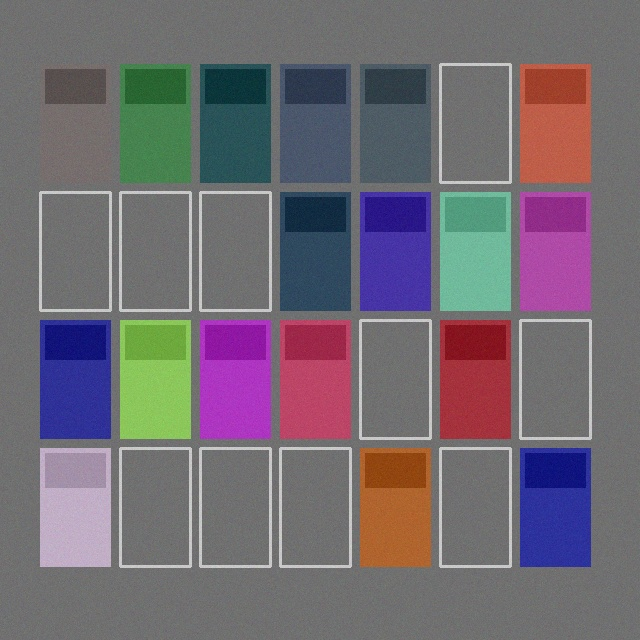space-empty: (440, 64, 510, 182), (40, 192, 110, 310), (120, 192, 190, 310), (200, 192, 270, 310), (360, 320, 430, 438), (520, 320, 590, 438), (120, 448, 190, 566), (200, 448, 270, 566), (280, 448, 350, 566), (440, 448, 510, 566)
space-occupied: (40, 64, 110, 182), (120, 64, 190, 182), (200, 64, 270, 182), (280, 64, 350, 182), (360, 64, 430, 182), (520, 64, 590, 182), (280, 192, 350, 310), (360, 192, 430, 310), (440, 192, 510, 310), (520, 192, 590, 310), (40, 320, 110, 438), (120, 320, 190, 438), (200, 320, 270, 438), (280, 320, 350, 438), (440, 320, 510, 438), (40, 448, 110, 566), (360, 448, 430, 566), (520, 448, 590, 566)
